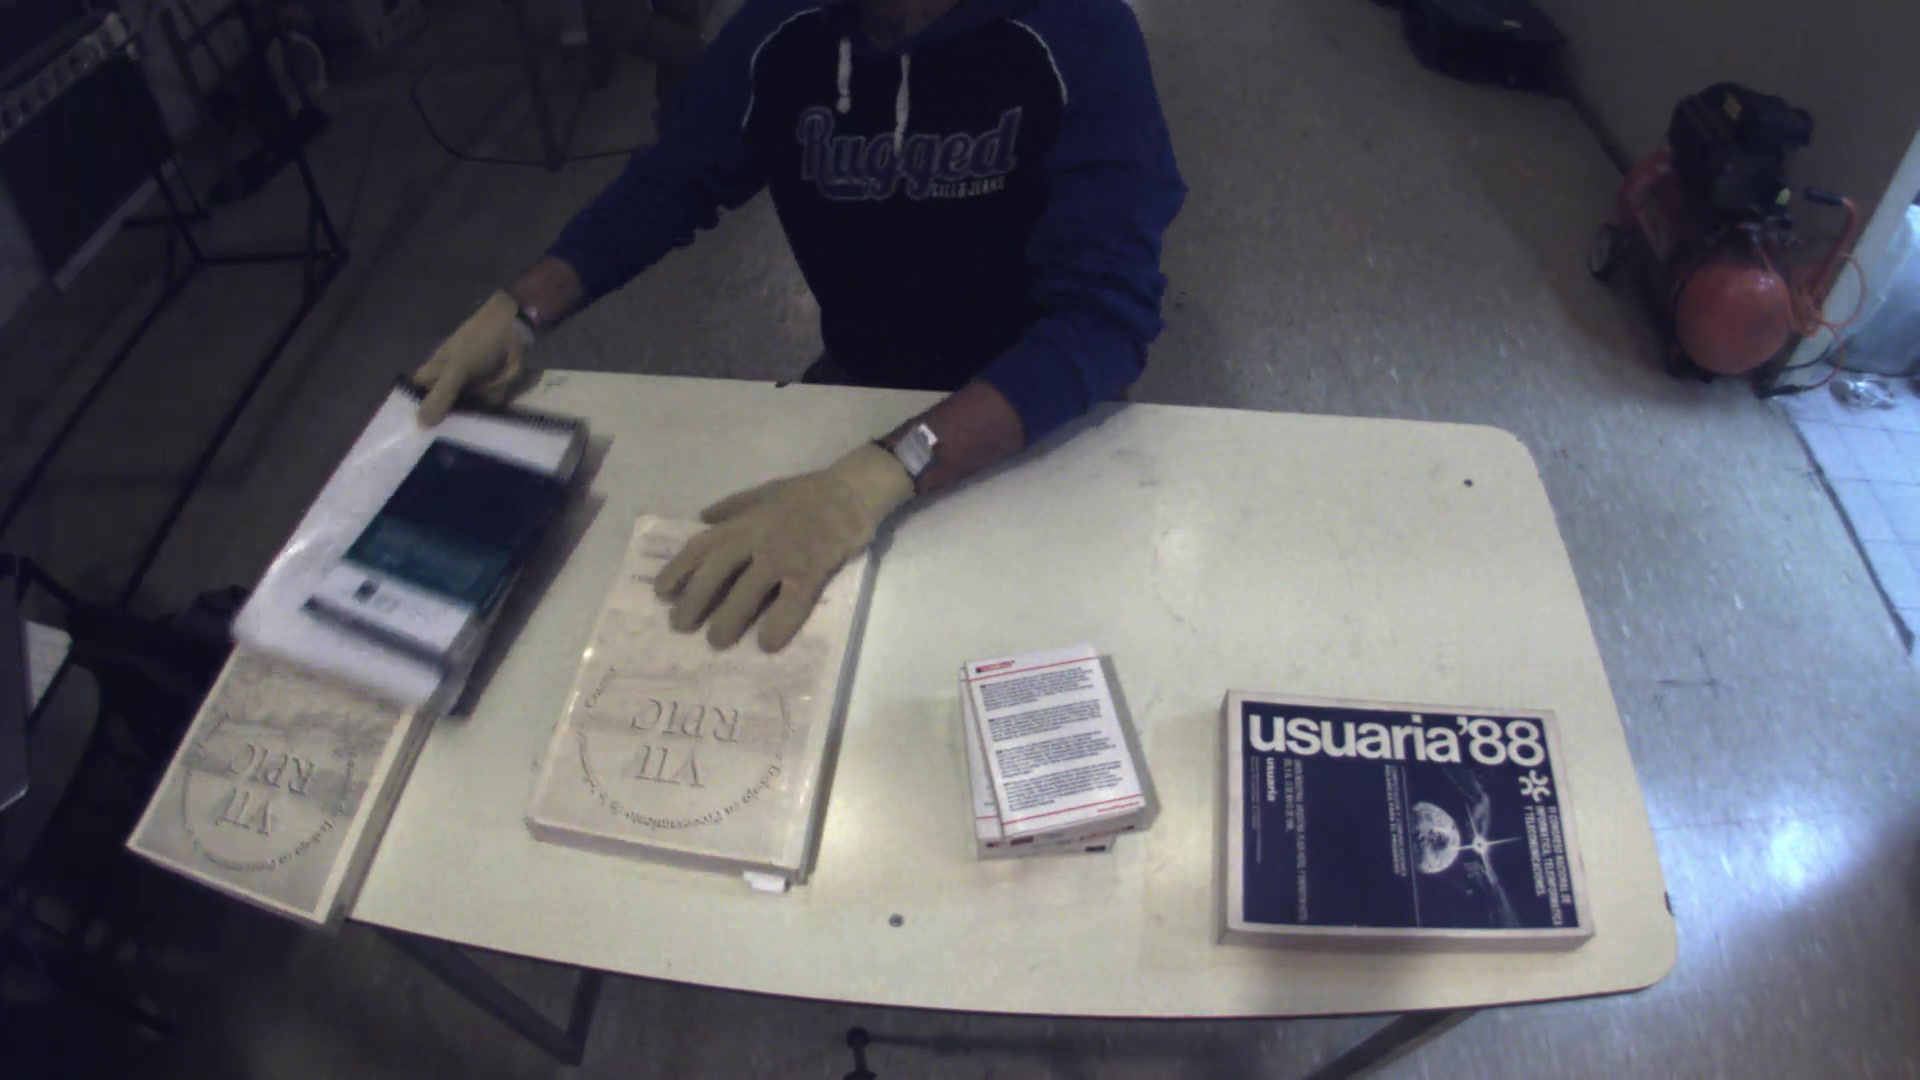hand: (637, 444, 916, 655), (396, 287, 541, 423)
